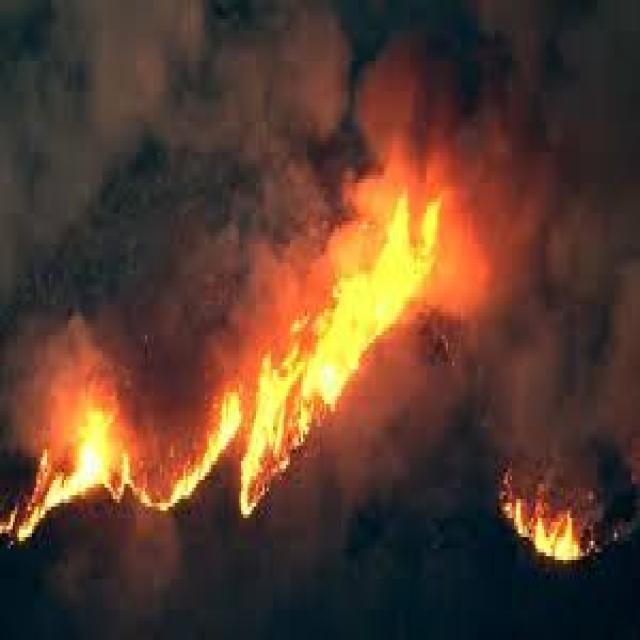Fire: (294, 188, 448, 400), (0, 430, 164, 541), (240, 342, 302, 526), (502, 472, 608, 572), (164, 393, 239, 516)
Smoke: (0, 9, 343, 189), (346, 0, 640, 203), (0, 187, 296, 356), (456, 206, 640, 461)
